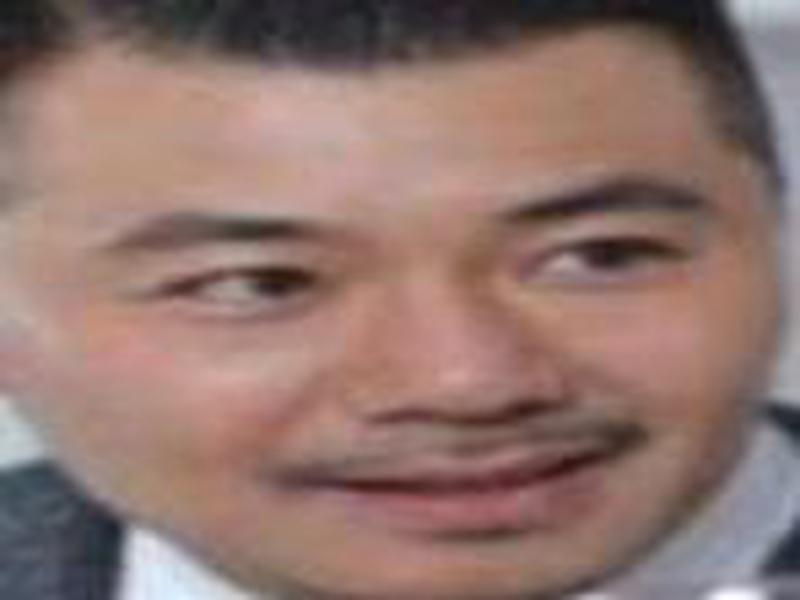without_mask: (10, 73, 776, 598)
